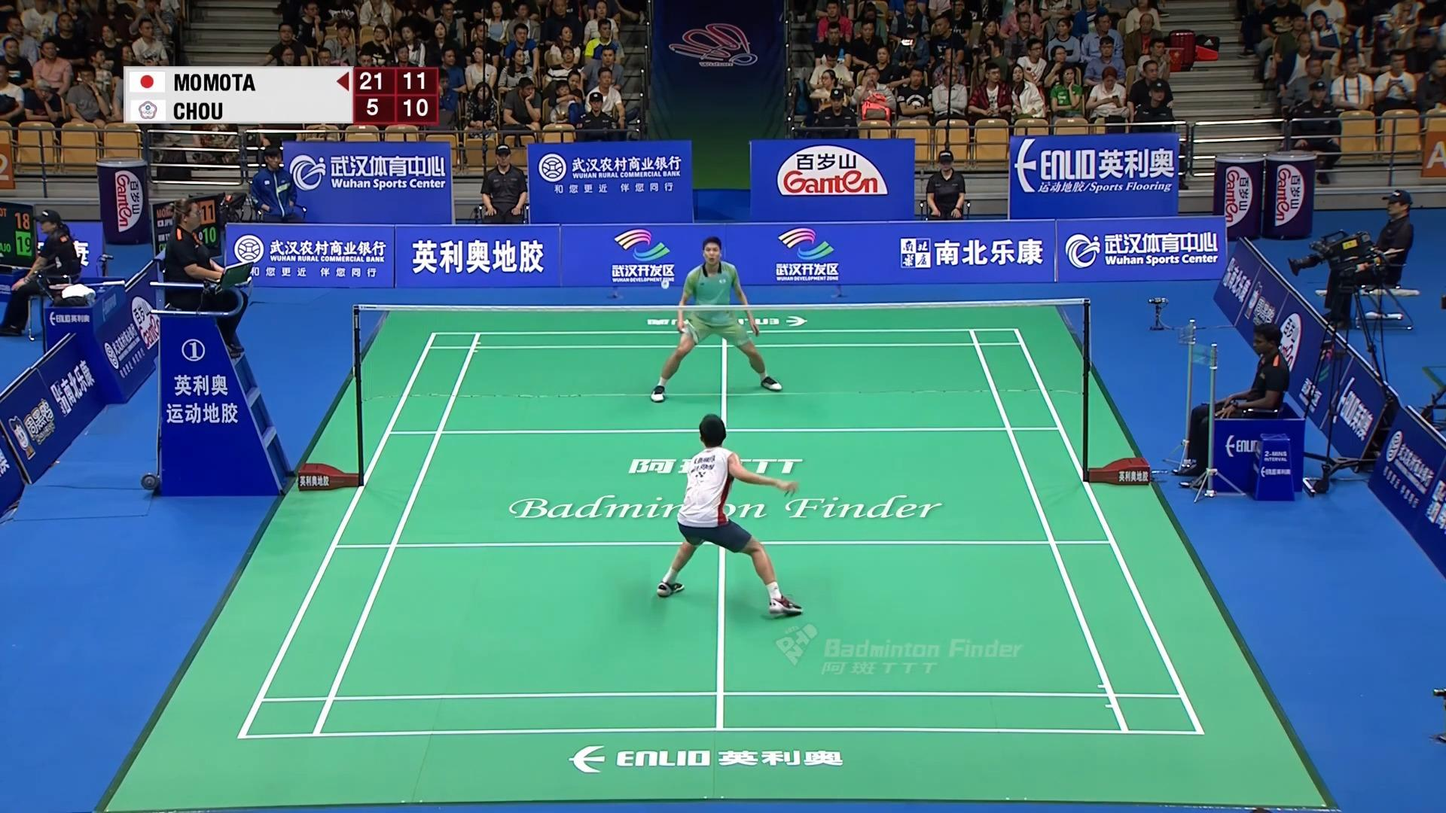player: (657, 414, 803, 617), (649, 235, 782, 404)
